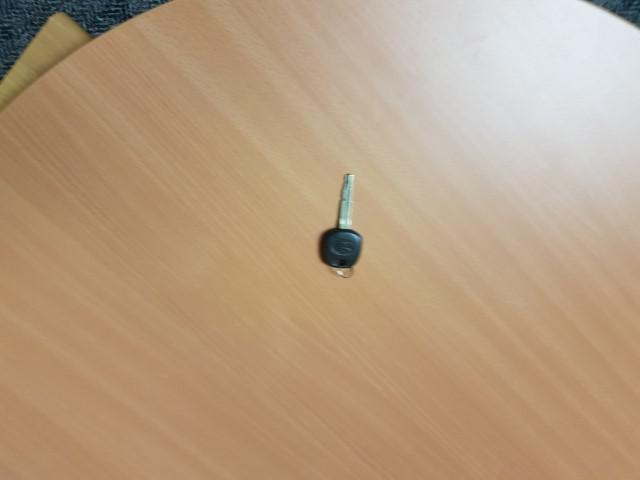key: (314, 171, 366, 273)
